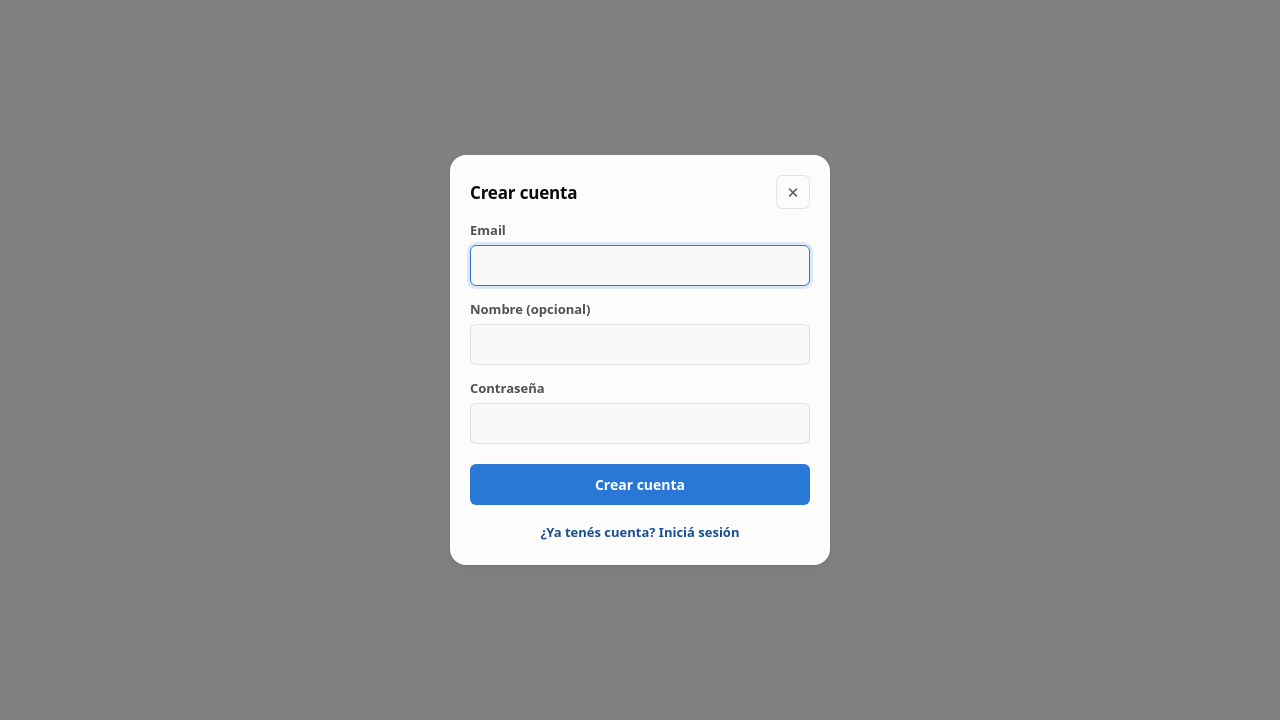
Test: AuthModal › al registrarse con éxito muestra la confirmación y NO cierra el modal
The width and height of the screenshot is (1280, 720).
In the field labelled "Email": (640, 266) [470,245,810,286], type "nuevo@example.com"
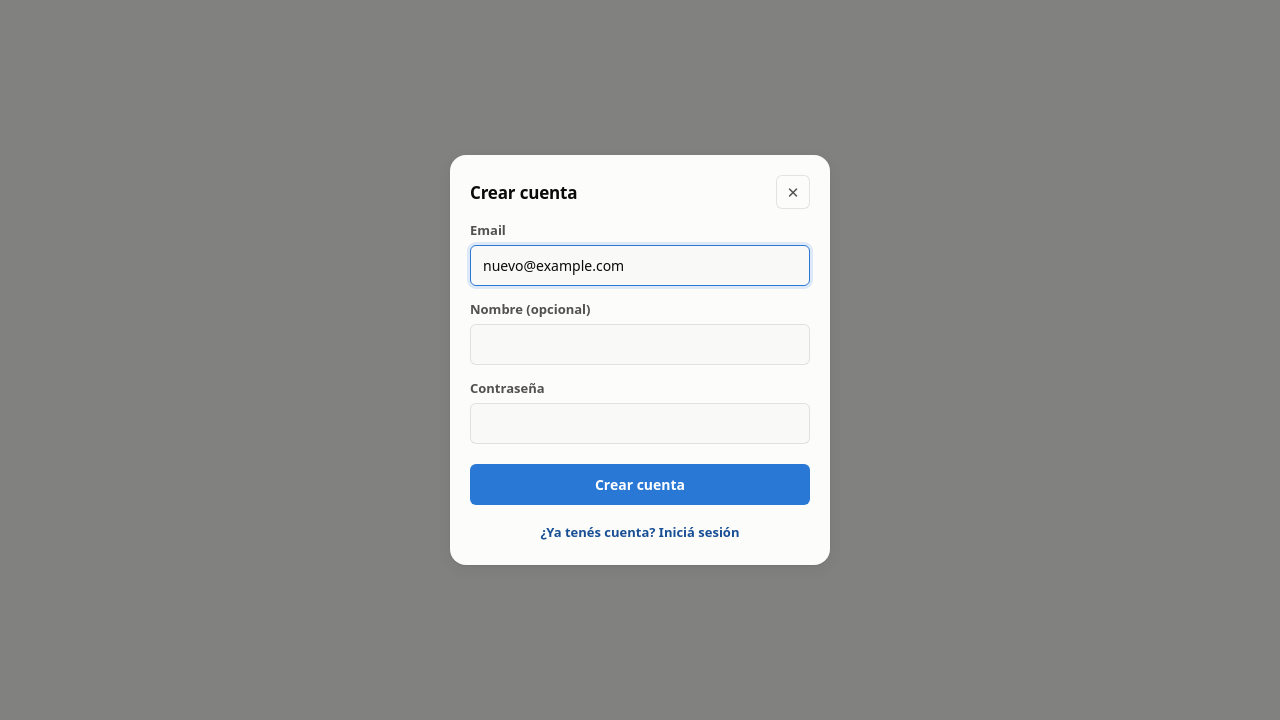
In the password field labelled "Contraseña": (640, 424) [470,403,810,444], type "supersecreta123"
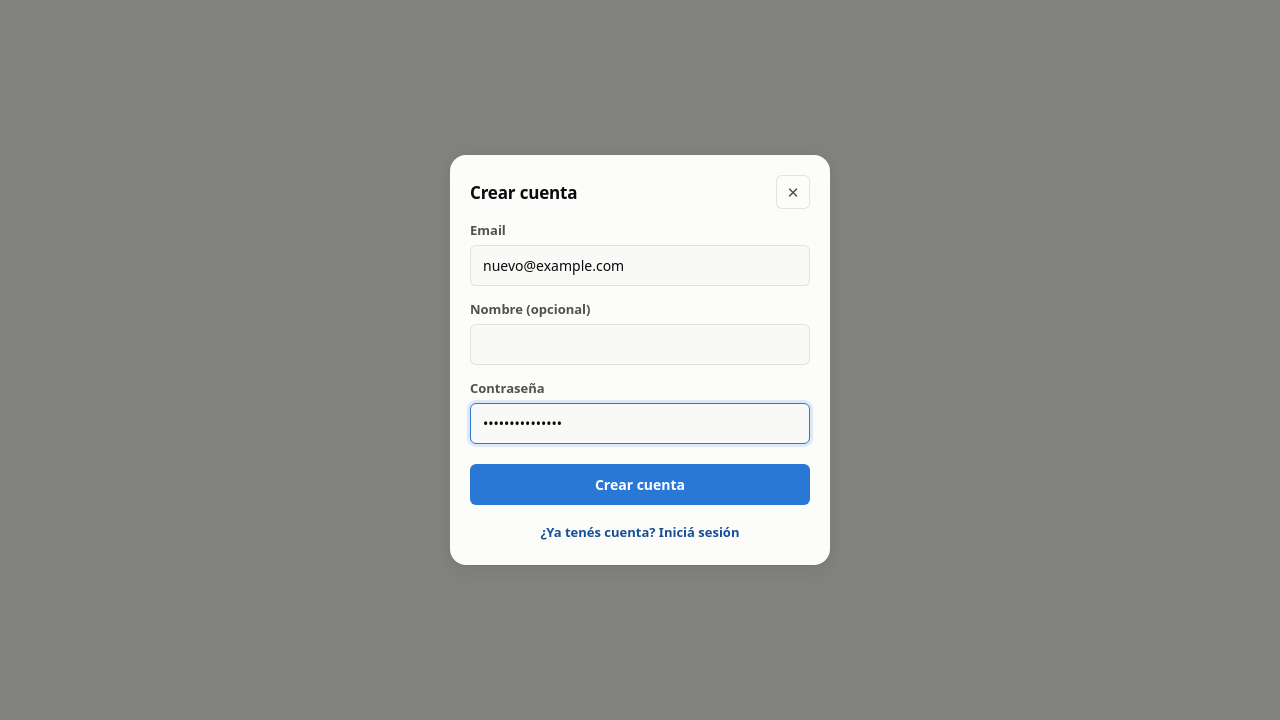
Click the button "Crear cuenta": click(640, 484) [470,464,810,505]
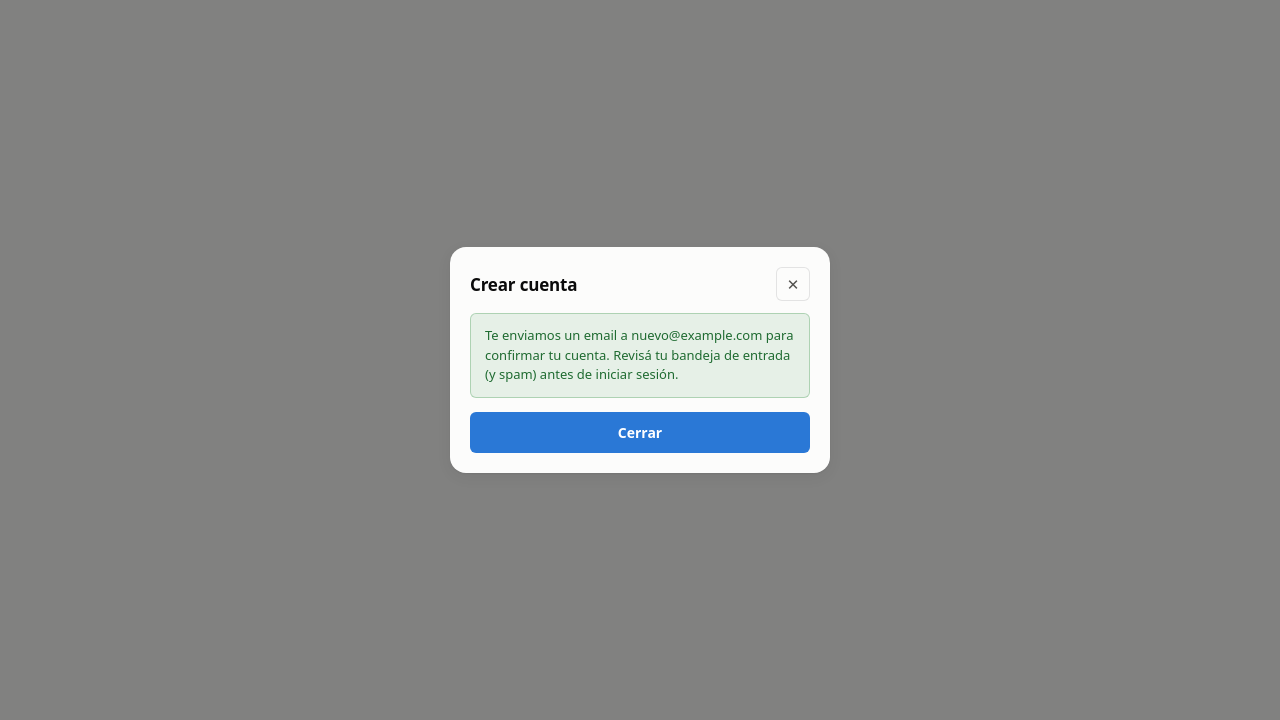
Expected: the text "nuevo@example.com" is shown, [485,326,794,383]
